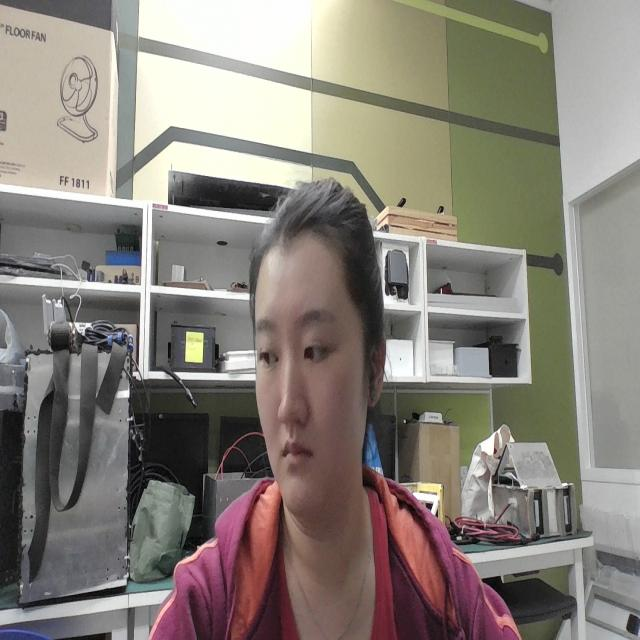Without Helmet: (221, 159, 419, 559)
